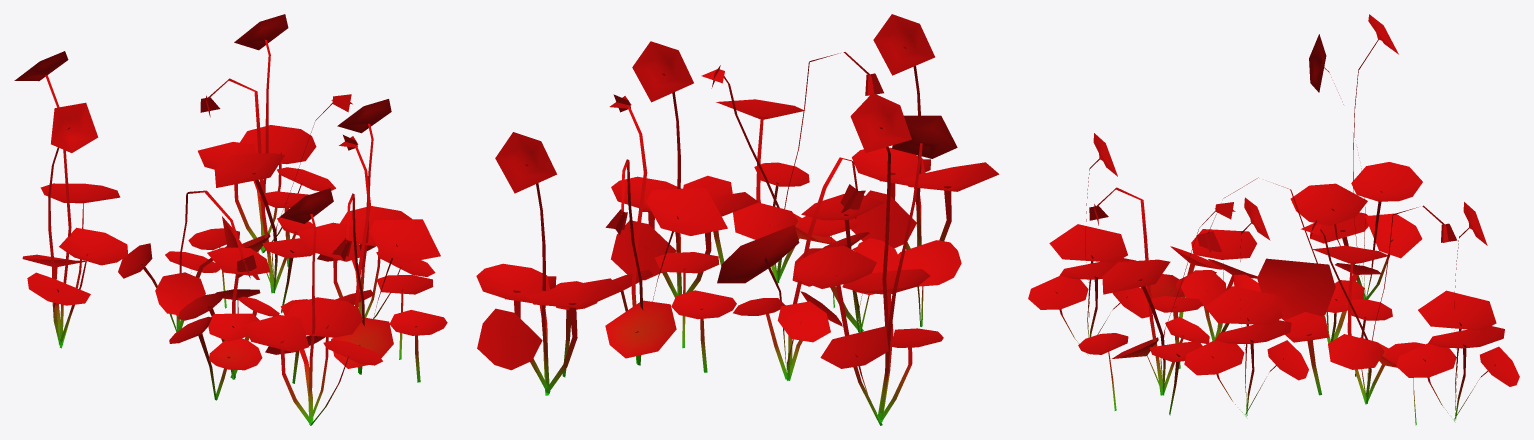
File: Native Violet_LOD4_Var5_ultkcfeja.fbx
3 renders of one model, left to right at view 1: azimuth 30°, elevation 25°; view 2: azimuth 150°, elevation 25°; view 3: azimuth 270°, elevation 25°, orthographic. The views are drawn at different scales.
Parts seen in each view (by area): view 1: _05ki_Var5_LOD4; view 2: _05ki_Var5_LOD4; view 3: _05ki_Var5_LOD4.
Boxes of the visible parts, left/top/right/bottom form: _05ki_Var5_LOD4: left=14, top=14, right=447, bottom=425; _05ki_Var5_LOD4: left=476, top=14, right=999, bottom=425; _05ki_Var5_LOD4: left=1028, top=14, right=1519, bottom=425.
Size of the model in its own units: 30.82 by 25.27 by 39.25.
